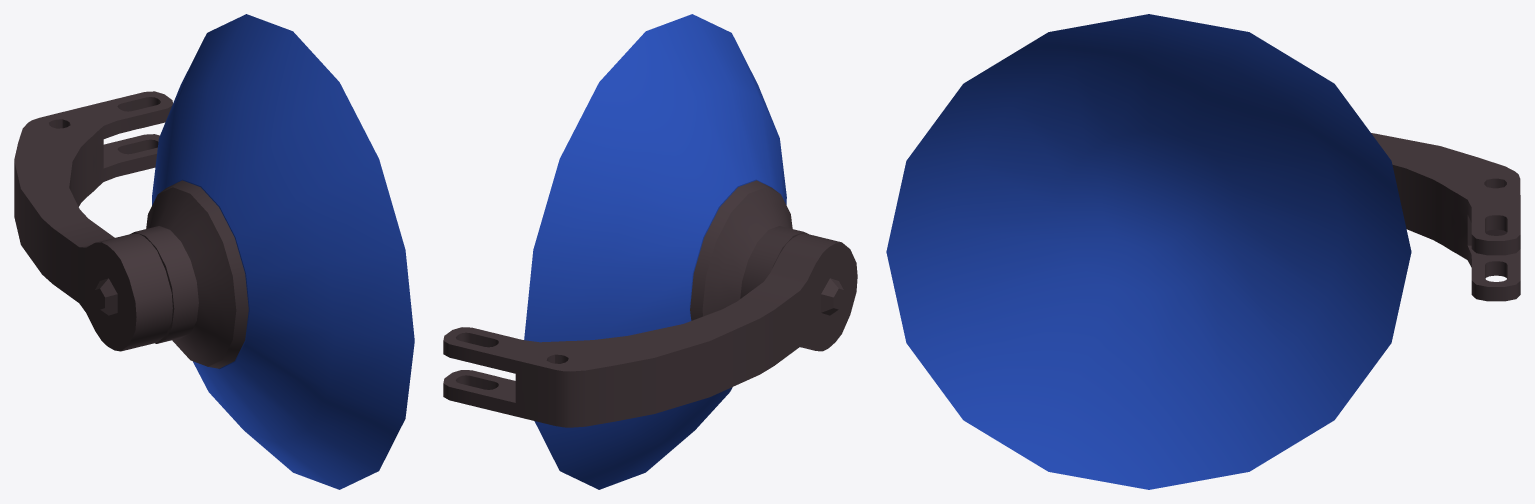
File: newton_sampler_cup.visual.glb
The picture shows the model from 3 angles, left to right: view 1: azimuth 30°, elevation 25°; view 2: azimuth 150°, elevation 25°; view 3: azimuth 270°, elevation 25°; orthographic projection. The views are drawn at different scales.
Parts seen in each view (by area): view 1: cup.002; view 2: cup.002; view 3: cup.002.
Part boxes in pixels (left/top/right/bottom): cup.002: left=14, top=14, right=414, bottom=489; cup.002: left=443, top=14, right=857, bottom=489; cup.002: left=886, top=14, right=1520, bottom=489.
Bounding box in the file's own units: 0.0641 × 0.1178 × 0.1422.
